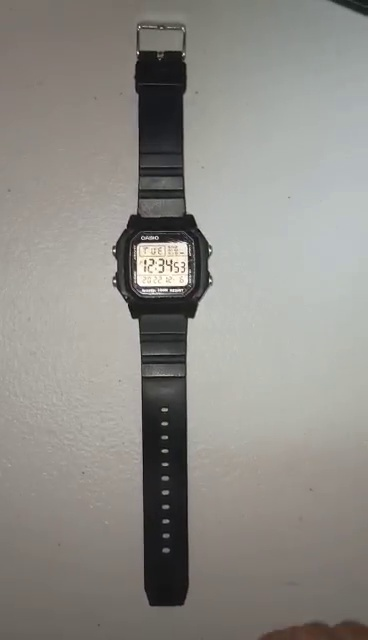watch: (113, 26, 213, 610)
